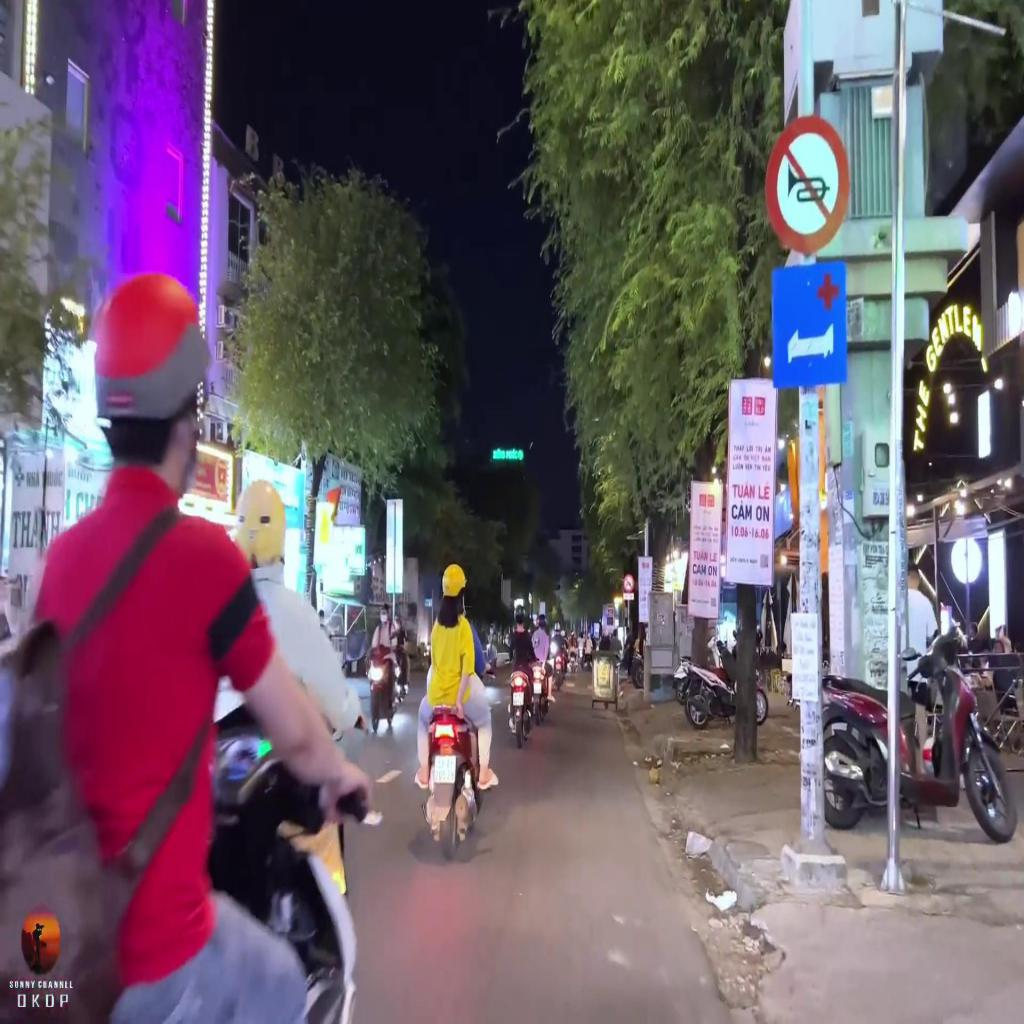cam_o_to: (624, 574, 634, 592)
cam_su_dung_coi: (764, 116, 850, 256)
khac: (771, 261, 848, 387), (623, 593, 634, 599)
